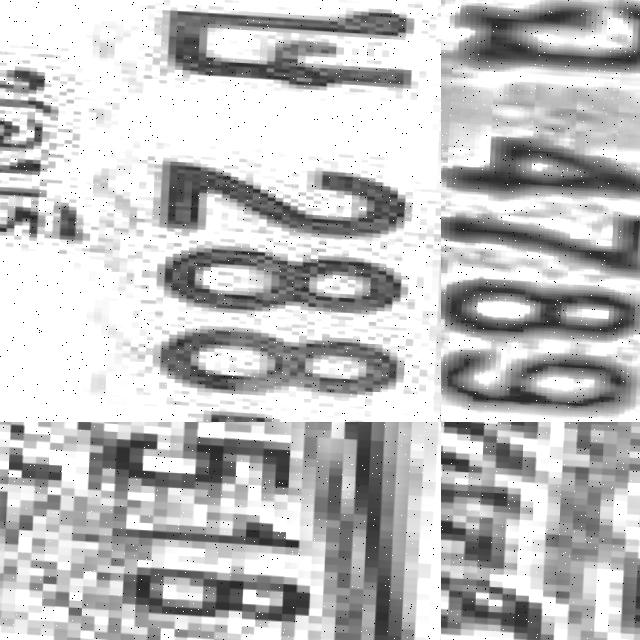license-plate: (0, 0, 441, 422), (0, 422, 441, 640), (441, 0, 640, 422), (441, 422, 640, 640)
